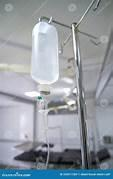Iv_Bottle: (31, 22, 58, 83)
